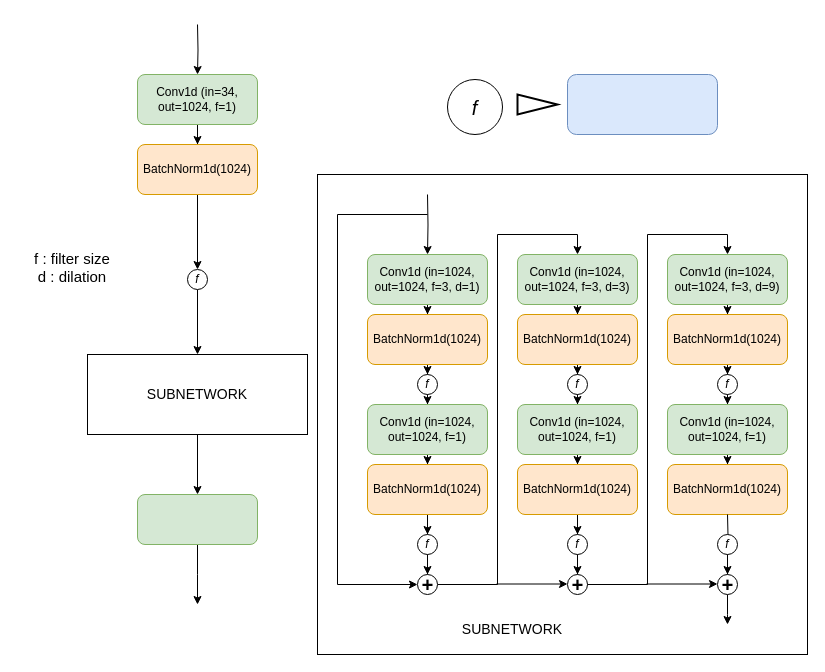
This 825x672 diagram has some shape labels left out. Each missing label, with the box of its shape:
Conv1d (in=1024, out=51, f=1): (136, 494, 258, 544)
LeakyReLU(0.03) + Dropout(0.25): (566, 74, 718, 134)
